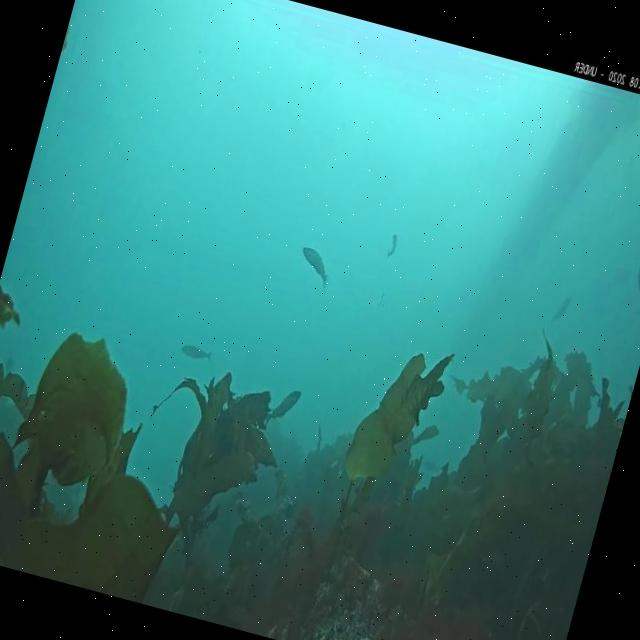fish: (262, 382, 302, 433), (294, 243, 334, 286), (548, 291, 572, 327), (180, 342, 214, 364), (384, 232, 399, 260), (631, 259, 640, 300)
